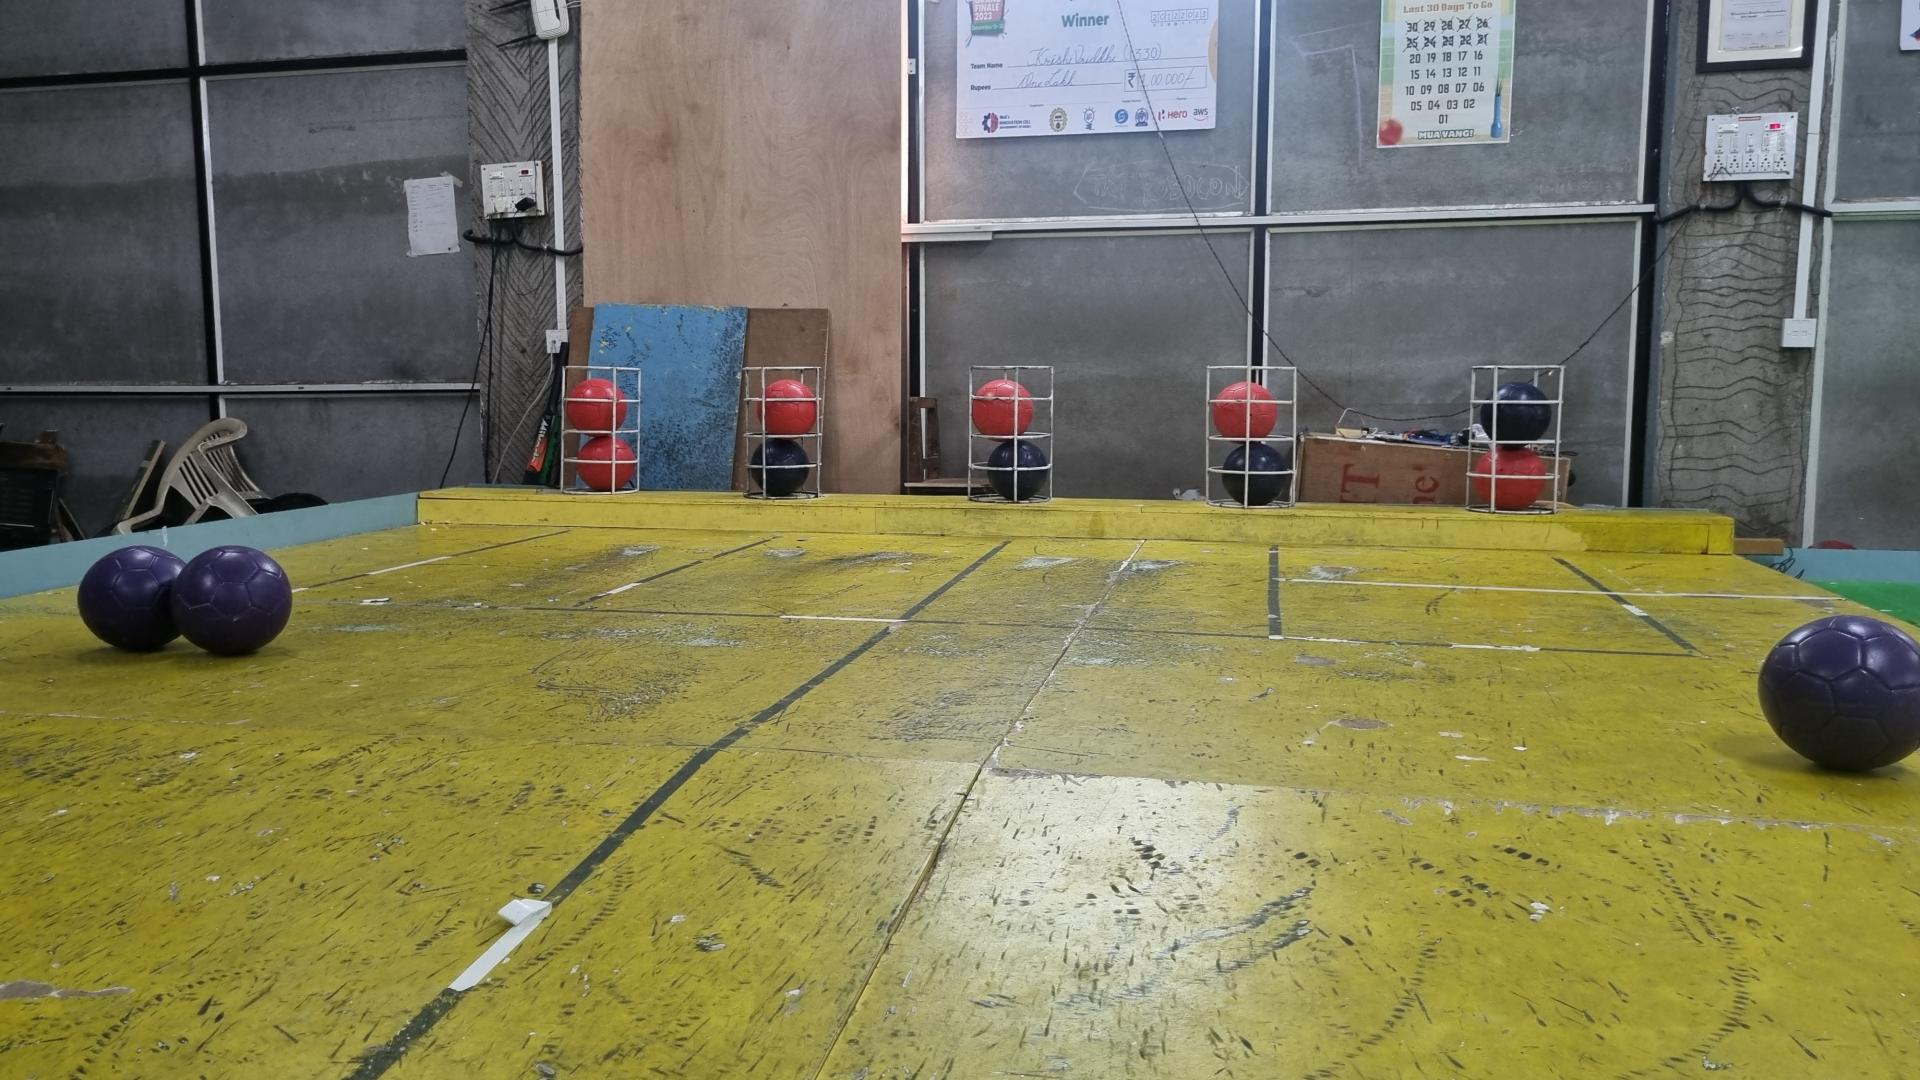dhoka: (1222, 442, 1290, 506), (1481, 382, 1552, 442), (986, 438, 1050, 502), (750, 438, 810, 498)
laale: (1470, 446, 1548, 509), (972, 378, 1035, 438), (1212, 382, 1279, 438), (578, 435, 637, 491), (761, 378, 818, 435), (566, 378, 626, 431)
